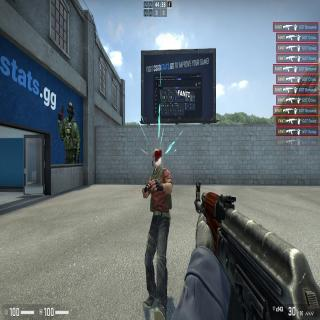T-Body: (146, 148, 172, 308)
T-Head: (153, 148, 162, 171)
